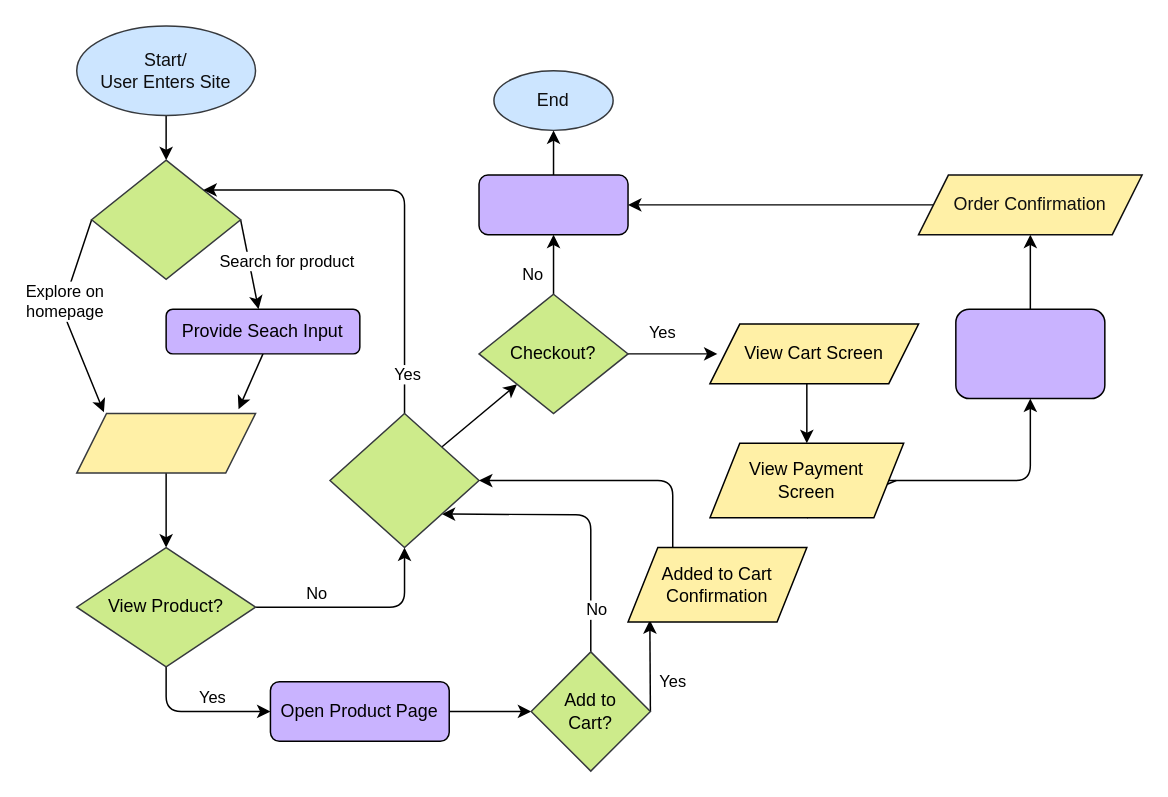
Some shapes in this 1168 by 797 pixel diagram are drawn without their labels. Each missing label, with the centre of its shape:
"Continue Shopping?" belongs at pixel 404 480.
"Input Payment Information" belongs at pixel 1029 353.
"Leave Site" belongs at pixel 553 204.
"Look over Products" belongs at pixel 165 442.
"Products?" belongs at pixel 165 219.
